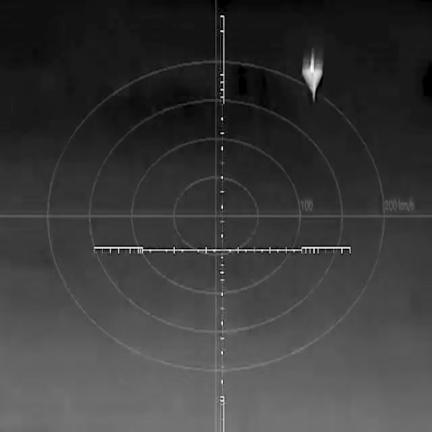Shahed: (303, 51, 323, 100)
